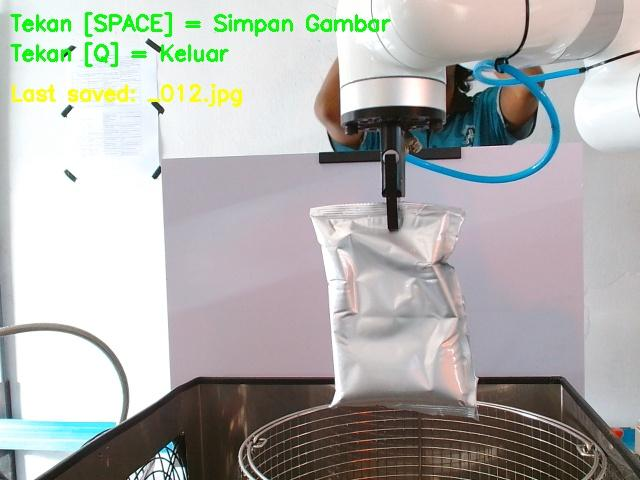retort-pouch: (306, 201, 481, 416)
